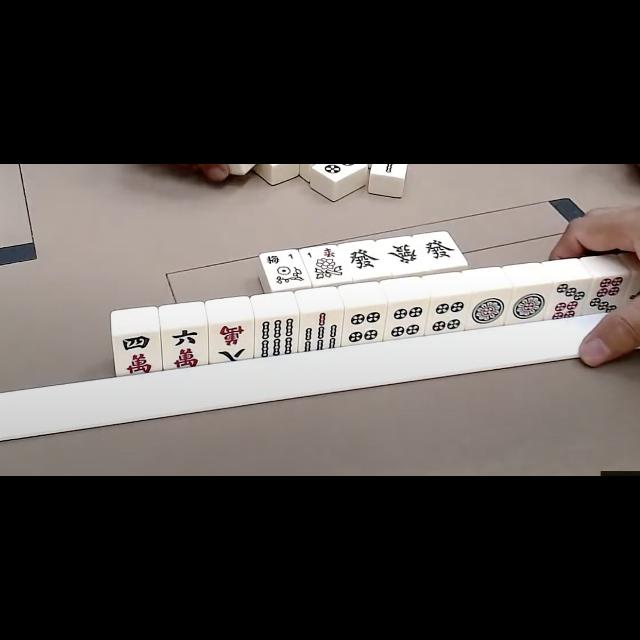b6: (255, 317, 298, 355)
b7: (300, 310, 342, 350)
c4: (114, 331, 160, 375)
c6: (163, 326, 207, 368)
c8: (210, 321, 252, 361)
d1: (469, 290, 508, 328), (510, 286, 548, 322)
d4: (344, 305, 386, 343), (429, 296, 467, 334), (388, 302, 427, 338)
d7: (550, 278, 588, 320), (588, 276, 626, 316)
dg: (383, 238, 422, 270), (345, 242, 383, 274), (419, 233, 458, 264)
f1: (265, 250, 299, 266)
s1: (304, 246, 340, 262)
